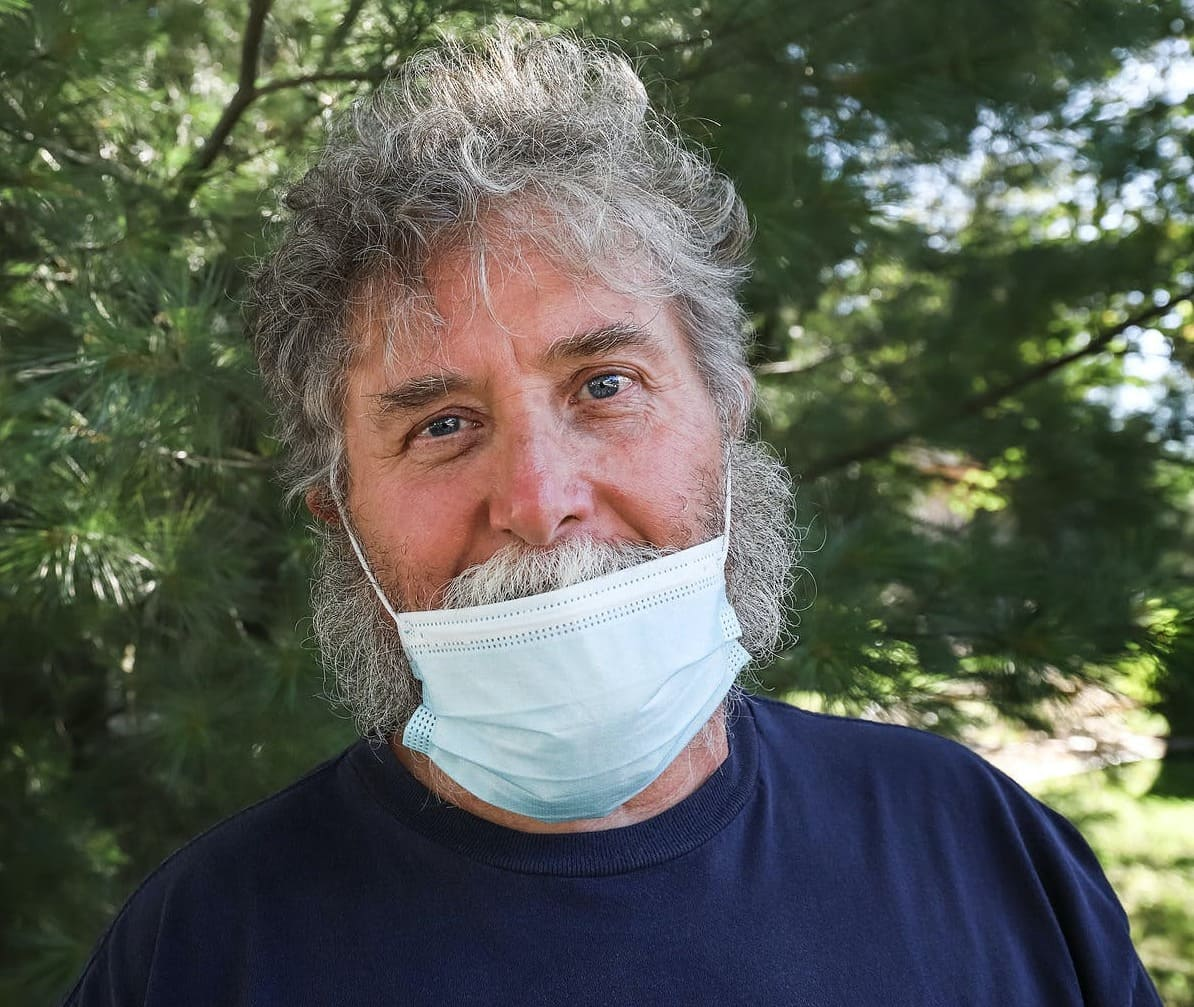with_incorrect_mask: (354, 224, 763, 814)
